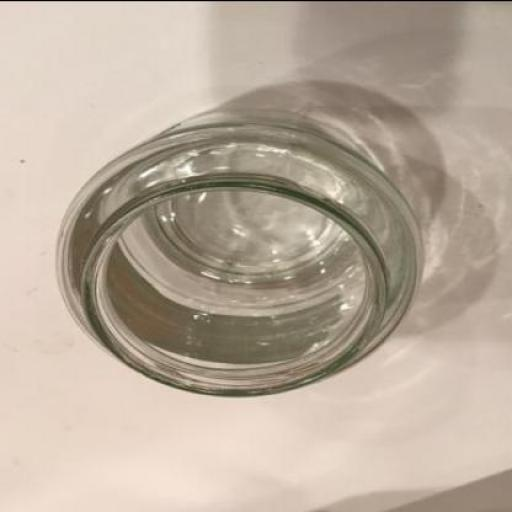glass: (55, 112, 420, 396)
